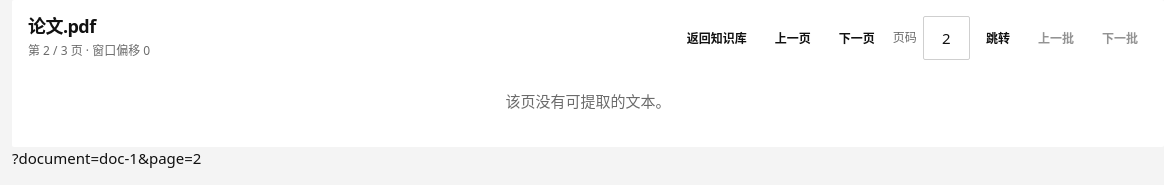
Test case: DocumentReader › shows an empty page as a valid blank page
The width and height of the screenshot is (1164, 185).
Expected: the text "该页没有可提取的文本。" is shown, [506, 91, 670, 111]
Click the button "上一页" at {"x": 793, "y": 38}, box [765, 21, 821, 55]
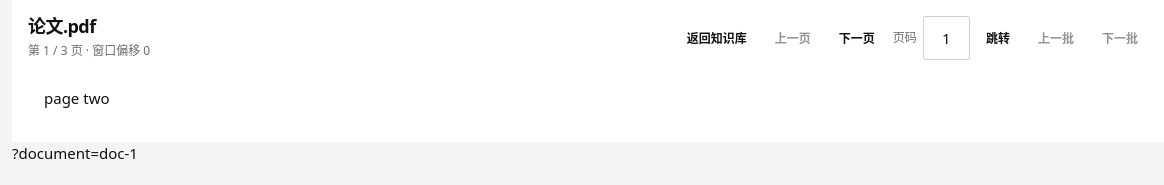
Expected: the text "page two" is shown, [44, 88, 110, 108]
Expected: the text "该页没有可提取的文本。" is gone
